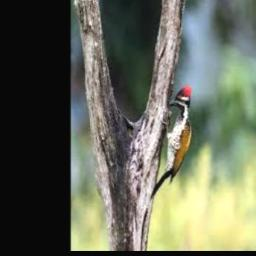Woodpecker: (150, 87, 191, 198)
